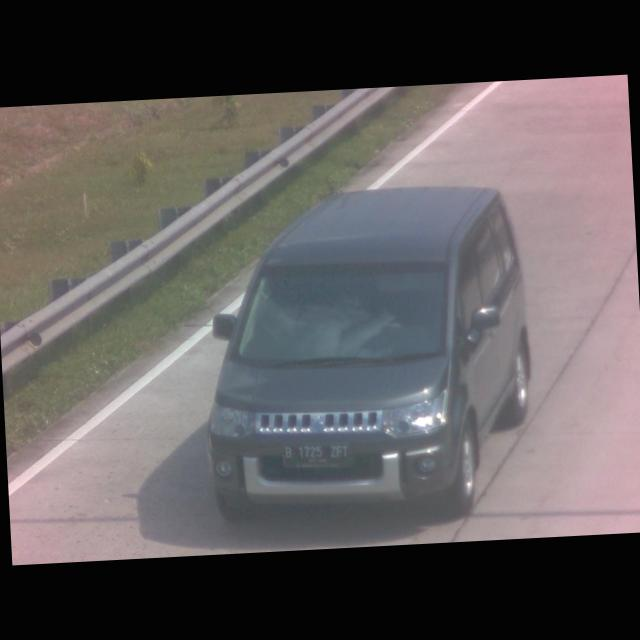plate: (276, 440, 356, 473)
